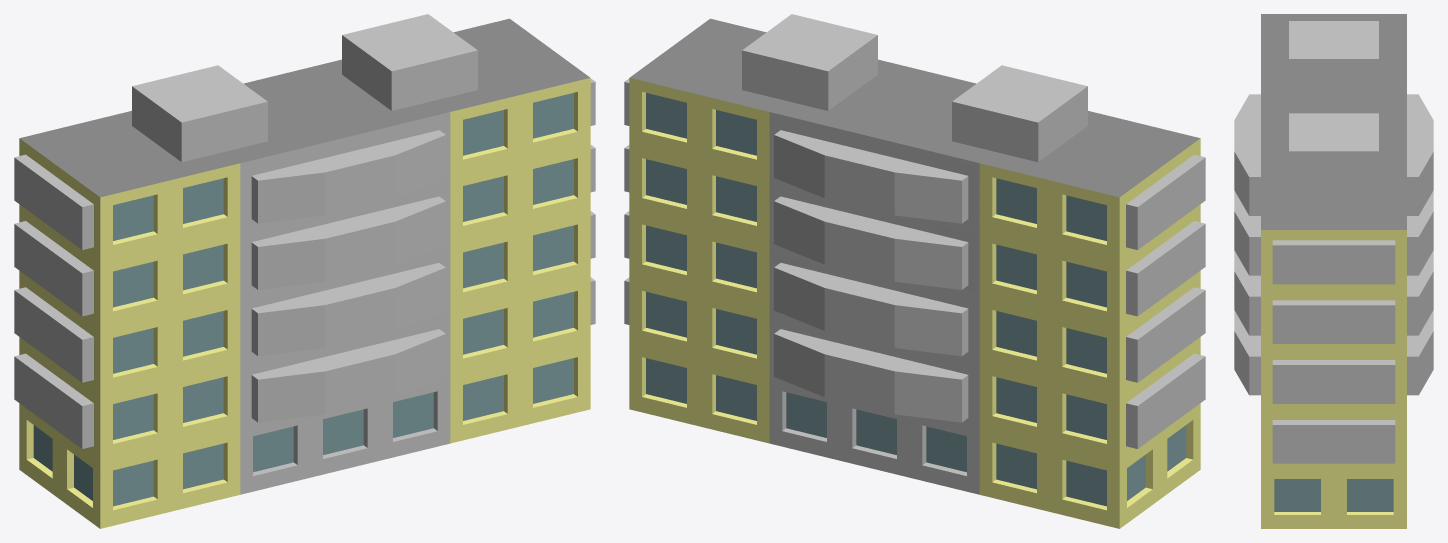
File: Panelka_streight.fbx
The picture shows the model from 3 angles, left to right: view 1: azimuth 30°, elevation 25°; view 2: azimuth 150°, elevation 25°; view 3: azimuth 270°, elevation 25°; orthographic projection. The views are drawn at different scales.
Visible parts, largest first — view 1: Panelka_streight; view 2: Panelka_streight; view 3: Panelka_streight.
Boxes of the visible parts, x1,y1,x2,y2 form: Panelka_streight: (14,14,595,528); Panelka_streight: (624,14,1205,528); Panelka_streight: (1234,14,1433,528).
Size of the model in its own units: 105 by 72.36 by 39.06.
